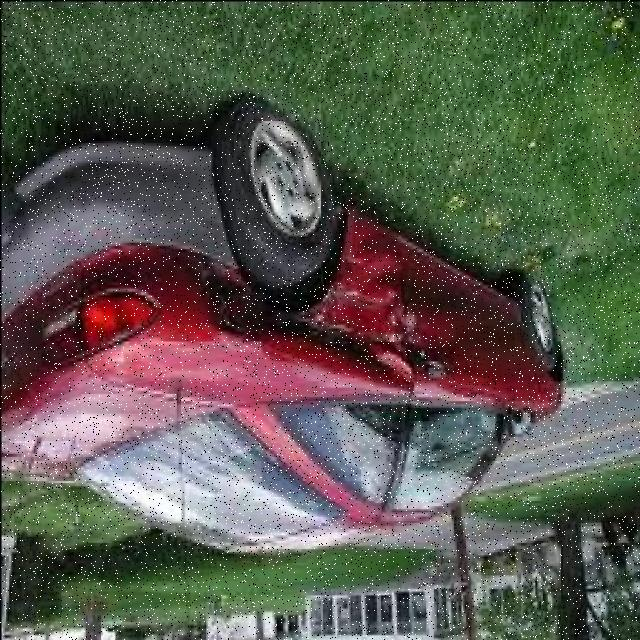damage: (127, 192, 418, 400)
